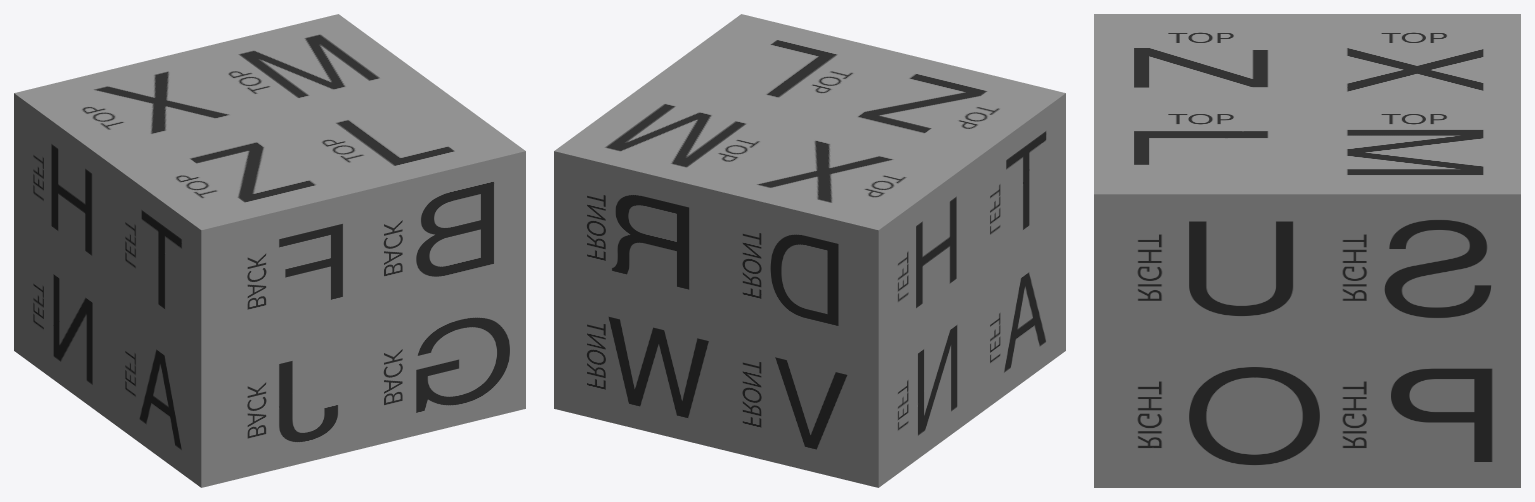
The model's file is Shaderball.gltf.
The picture shows the model from 3 angles, left to right: view 1: azimuth 30°, elevation 25°; view 2: azimuth 150°, elevation 25°; view 3: azimuth 270°, elevation 25°; orthographic projection. The views are drawn at different scales.
Parts seen in each view (by area): view 1: back, top, left; view 2: front, top, left; view 3: right, top.
Boxes of the visible parts, box(x1,y1,x2,y2) form: back: box(201, 151, 525, 487); top: box(14, 14, 525, 230); left: box(14, 93, 201, 487); front: box(554, 151, 878, 487); top: box(554, 14, 1065, 230); left: box(878, 93, 1065, 487); right: box(1094, 194, 1520, 487); top: box(1094, 14, 1520, 194).
Size of the model in its own units: 1 by 0.7586 by 1.
14 materials, 7 textured.
